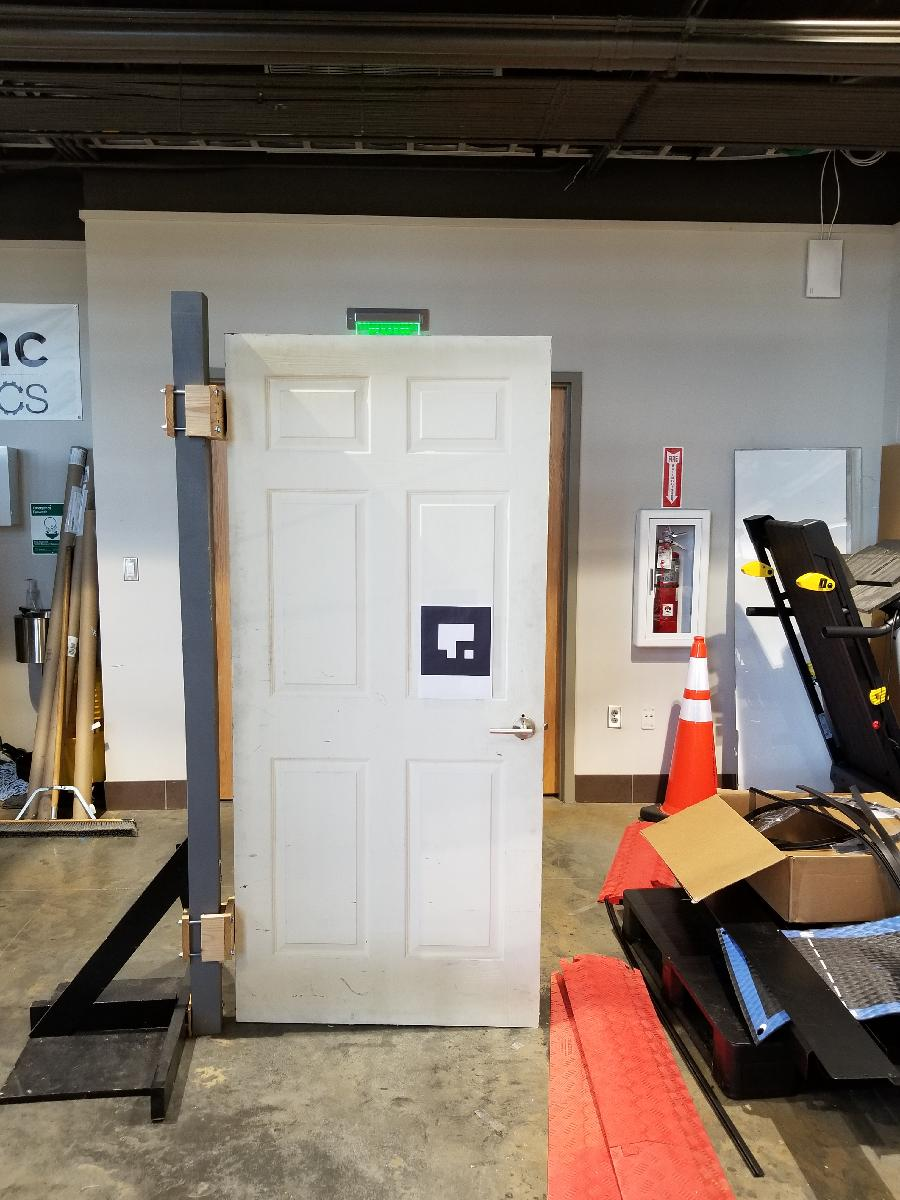door: (218, 333, 557, 1031)
doorHandle: (486, 709, 542, 746)
